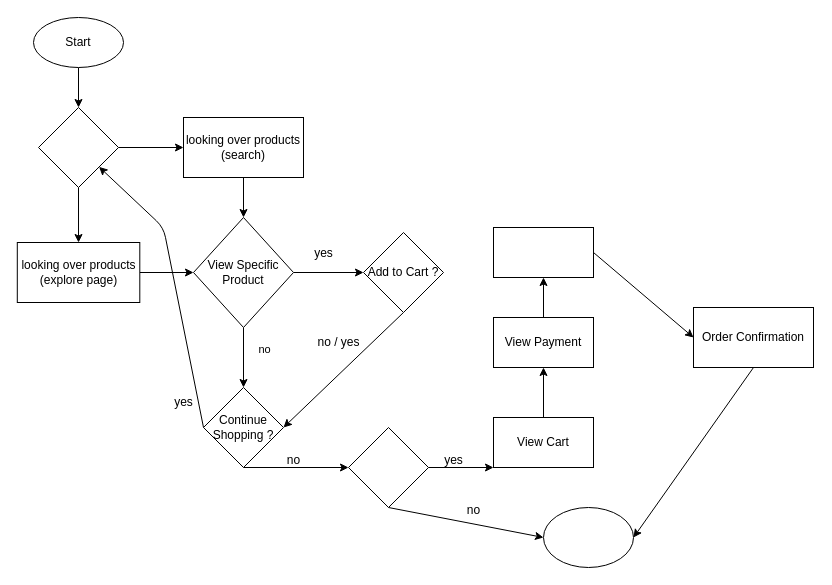
This 832x585 diagram has some shape labels left out. Each missing label, with the centre of its shape:
Checkout ?: pixel 388 467
Leave Website: pixel 588 537
Payment Information: pixel 543 252
Search or Explore: pixel 78 147
